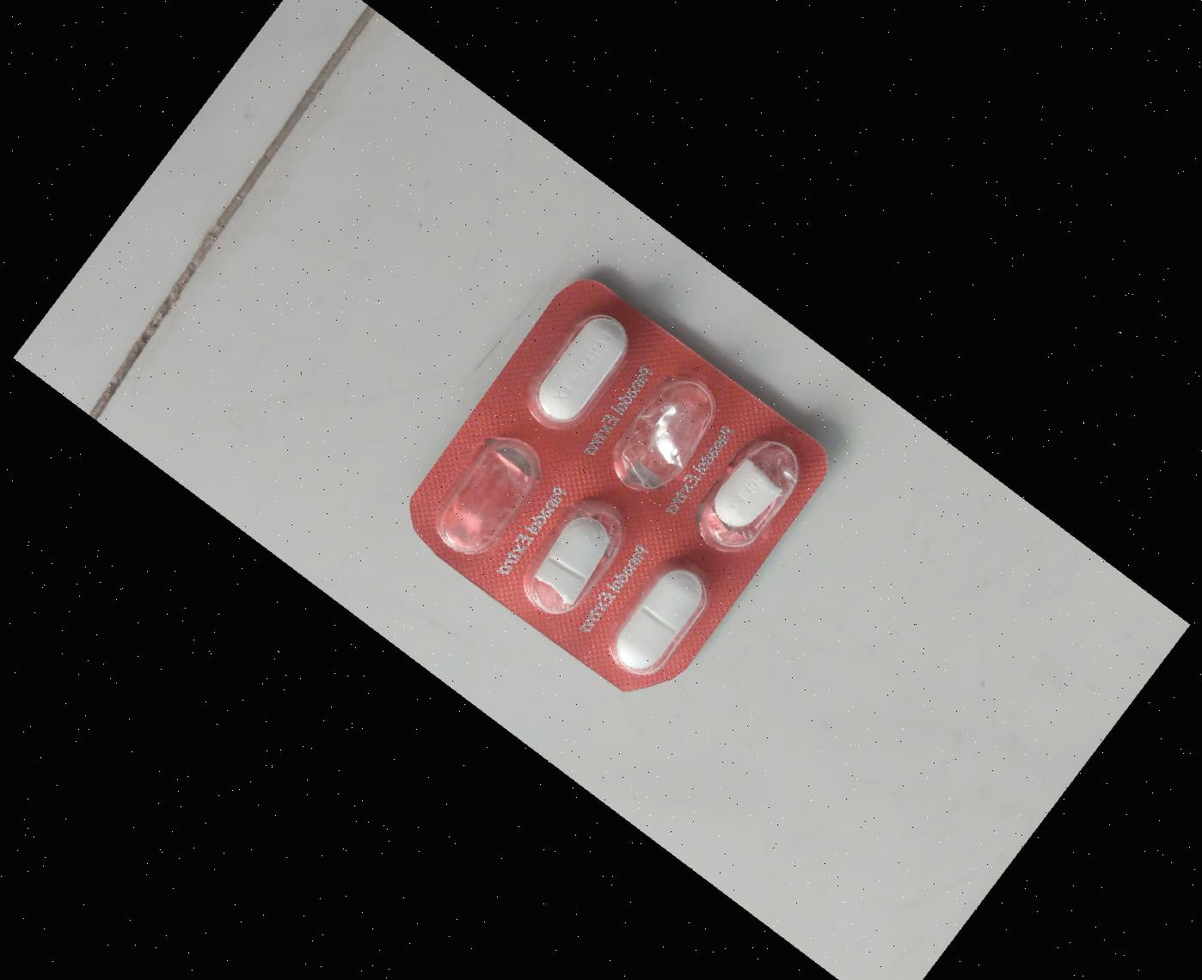Empty: (593, 351, 739, 510), (415, 413, 561, 571)
Full: (508, 293, 654, 451), (586, 537, 732, 695)
Partial: (674, 414, 820, 573), (496, 478, 642, 636)
